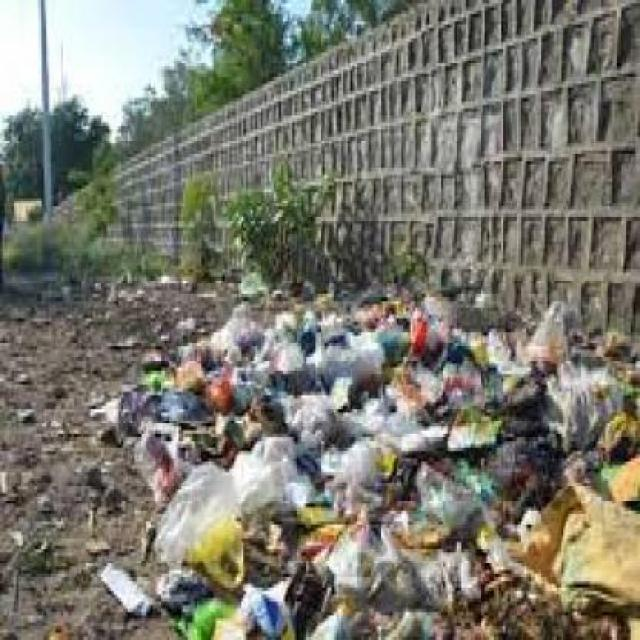garbage: (232, 266, 634, 633), (134, 329, 227, 634)
